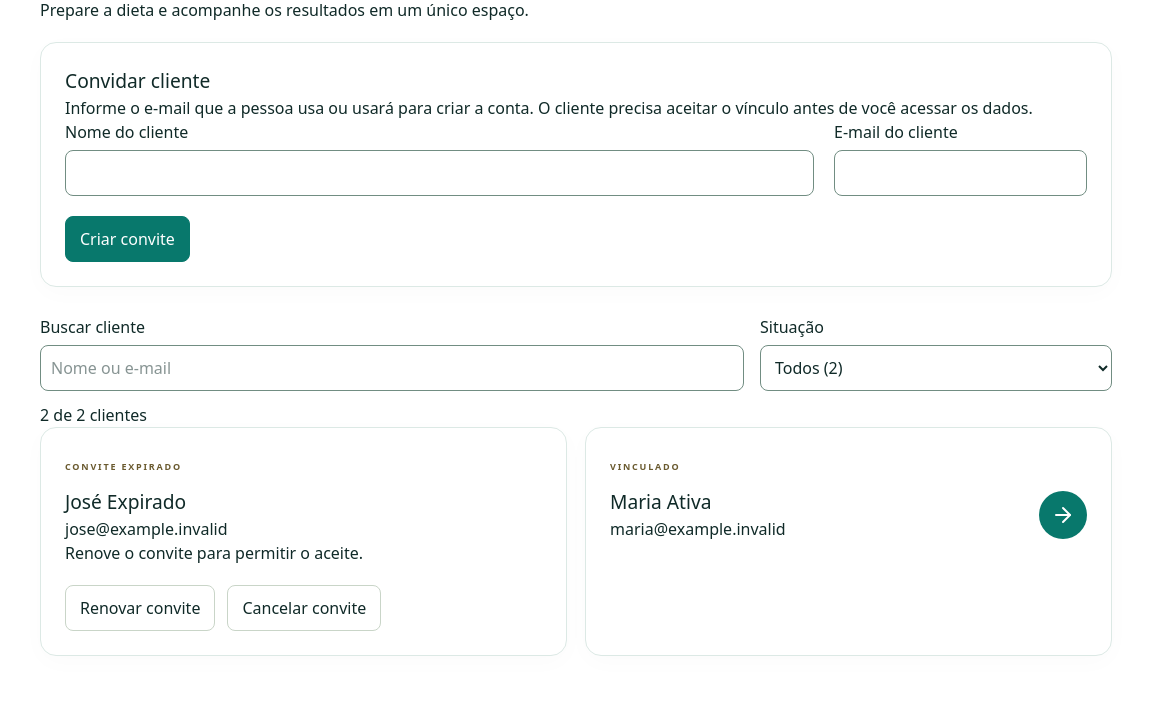
Test: mantém convite e apresenta erro quando a renovação falha
The image size is (1152, 720).
(page scrolled)
Click the button "Renovar convite".
click(140, 608)  # box [65, 585, 215, 631]
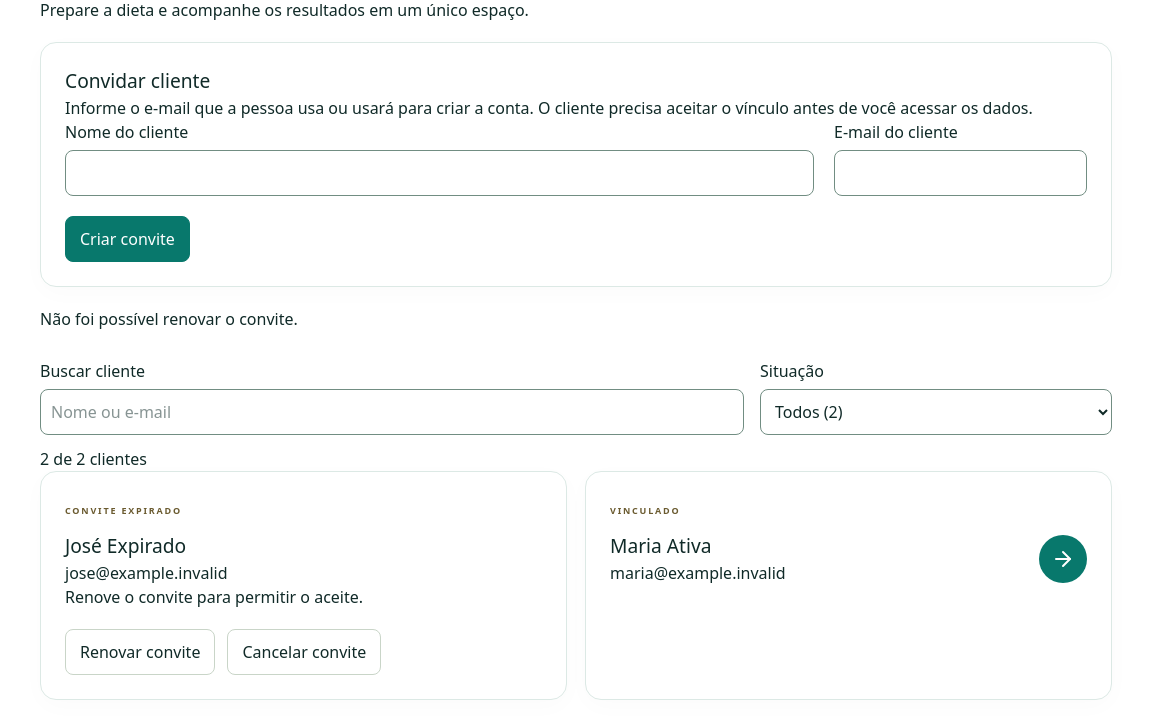
Expected: the element "José Expirado" is shown, [40, 471, 567, 700]
Expected: the message reads "Não foi possível renovar o convite.", [40, 308, 298, 330]
